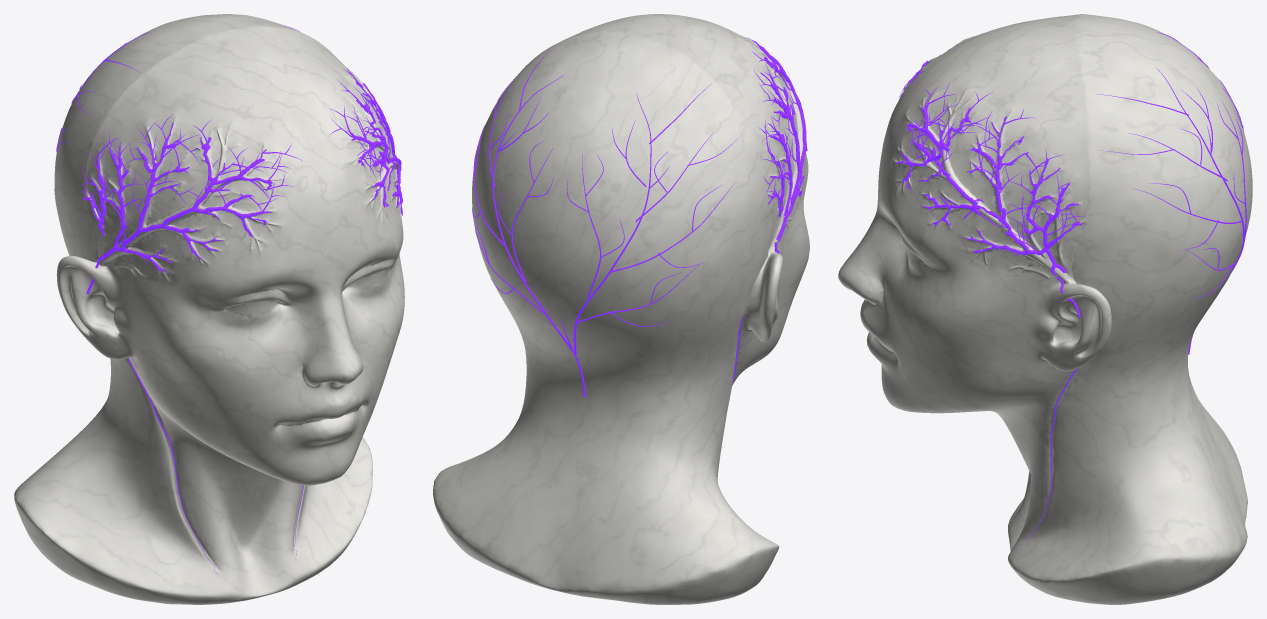
The model's file is cymba-neural-mannequin-marble.glb.
The picture shows the model from 3 angles, left to right: view 1: azimuth 30°, elevation 25°; view 2: azimuth 150°, elevation 25°; view 3: azimuth 270°, elevation 25°; orthographic projection. The views are drawn at different scales.
Parts seen in each view (by area): view 1: Cymba_Marble_Mannequin, Purple_Surface_Nerve_Fibres; view 2: Cymba_Marble_Mannequin, Purple_Surface_Nerve_Fibres; view 3: Cymba_Marble_Mannequin, Purple_Surface_Nerve_Fibres.
Boxes of the visible parts, <box> form: Cymba_Marble_Mannequin: <box>14,14,404,604</box>; Purple_Surface_Nerve_Fibres: <box>54,25,402,573</box>; Cymba_Marble_Mannequin: <box>433,14,809,604</box>; Purple_Surface_Nerve_Fibres: <box>472,38,807,397</box>; Cymba_Marble_Mannequin: <box>838,14,1252,604</box>; Purple_Surface_Nerve_Fibres: <box>895,32,1246,544</box>.
Size of the model in its own units: 2.74 by 4.26 by 3.04.
Materials: 2 (1 with a texture image).
